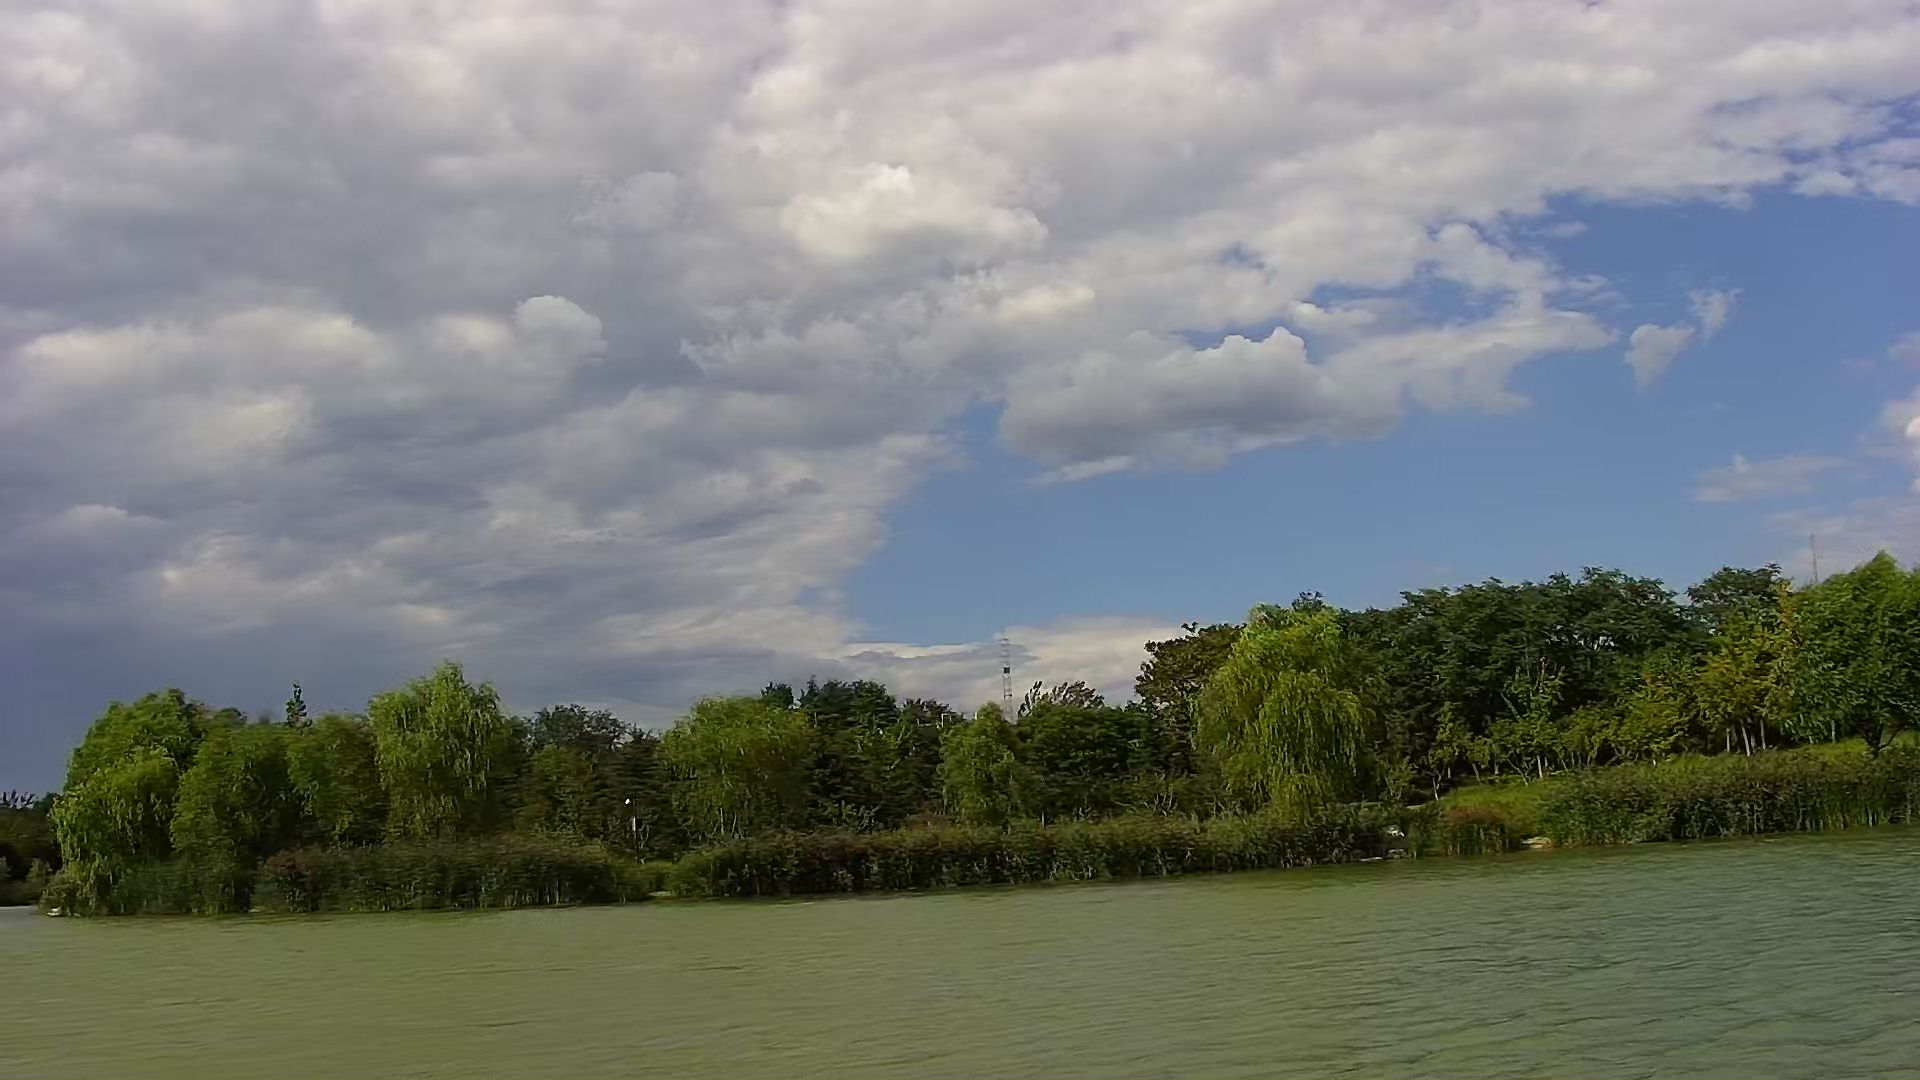rock: (1520, 831, 1557, 855)
